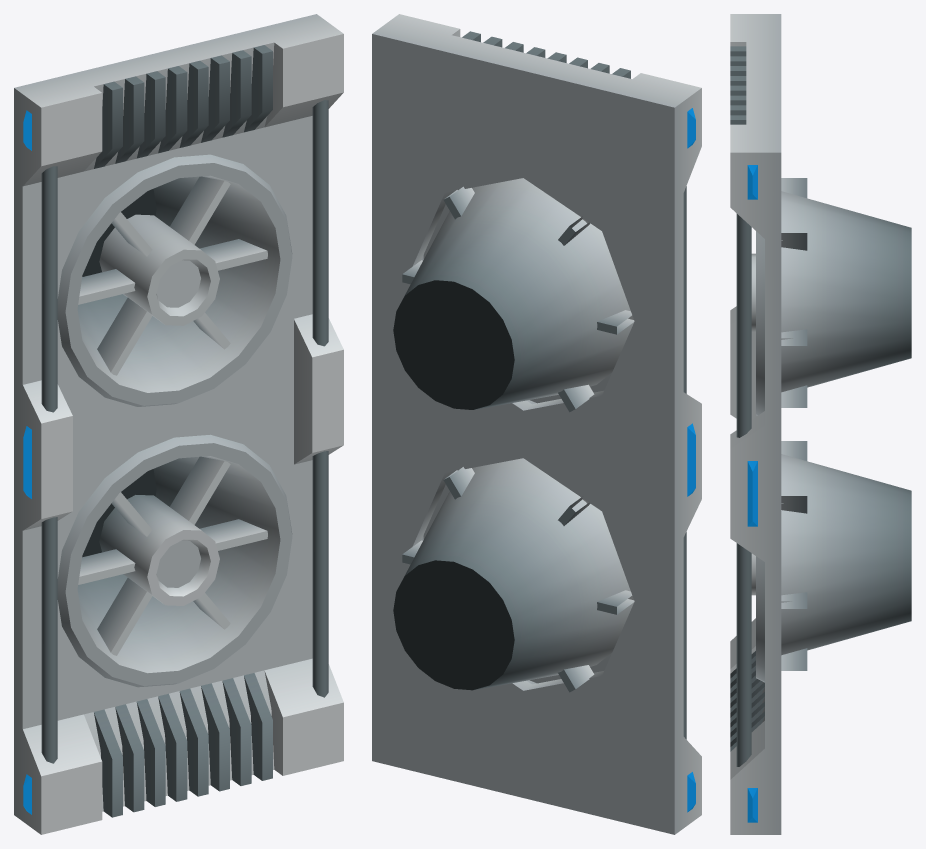
File: Ventilation_010.glb
3 views of the same model, side by side, from view 1: azimuth 30°, elevation 25°; view 2: azimuth 150°, elevation 25°; view 3: azimuth 270°, elevation 25° (orthographic). The views are drawn at different scales.
Parts seen in each view (by area): view 1: Ventilation_010; view 2: Ventilation_010; view 3: Ventilation_010.
Part boxes in pixels (x1,y1,x2,y2): Ventilation_010: (14,14,343,834); Ventilation_010: (372,14,701,834); Ventilation_010: (730,14,911,834).
Bounding box in the file's own units: 0.8317 × 1.84 × 0.442.
Materials: 2 (2 with a texture image).
